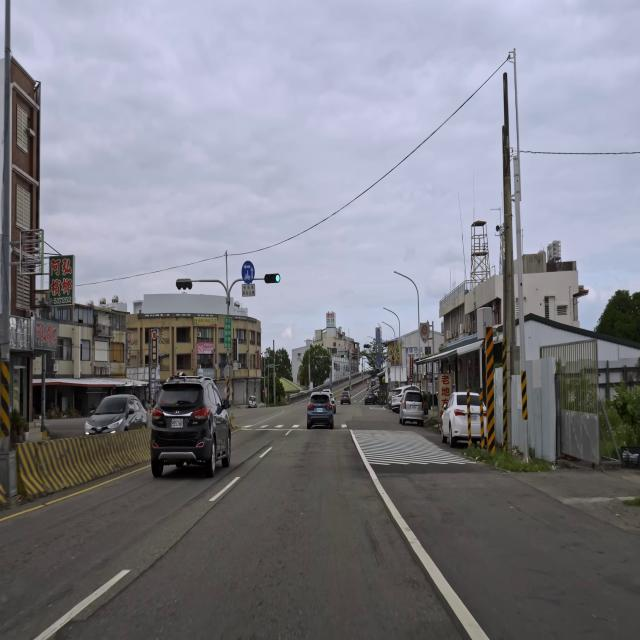green light: (263, 273, 281, 284)
